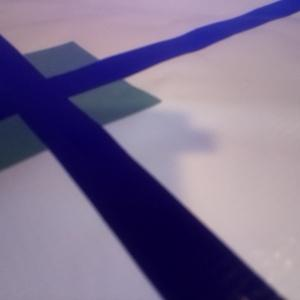bottom_left: (1, 79, 67, 170)
bottom_right: (28, 78, 160, 125)
top_right: (1, 42, 98, 89)
